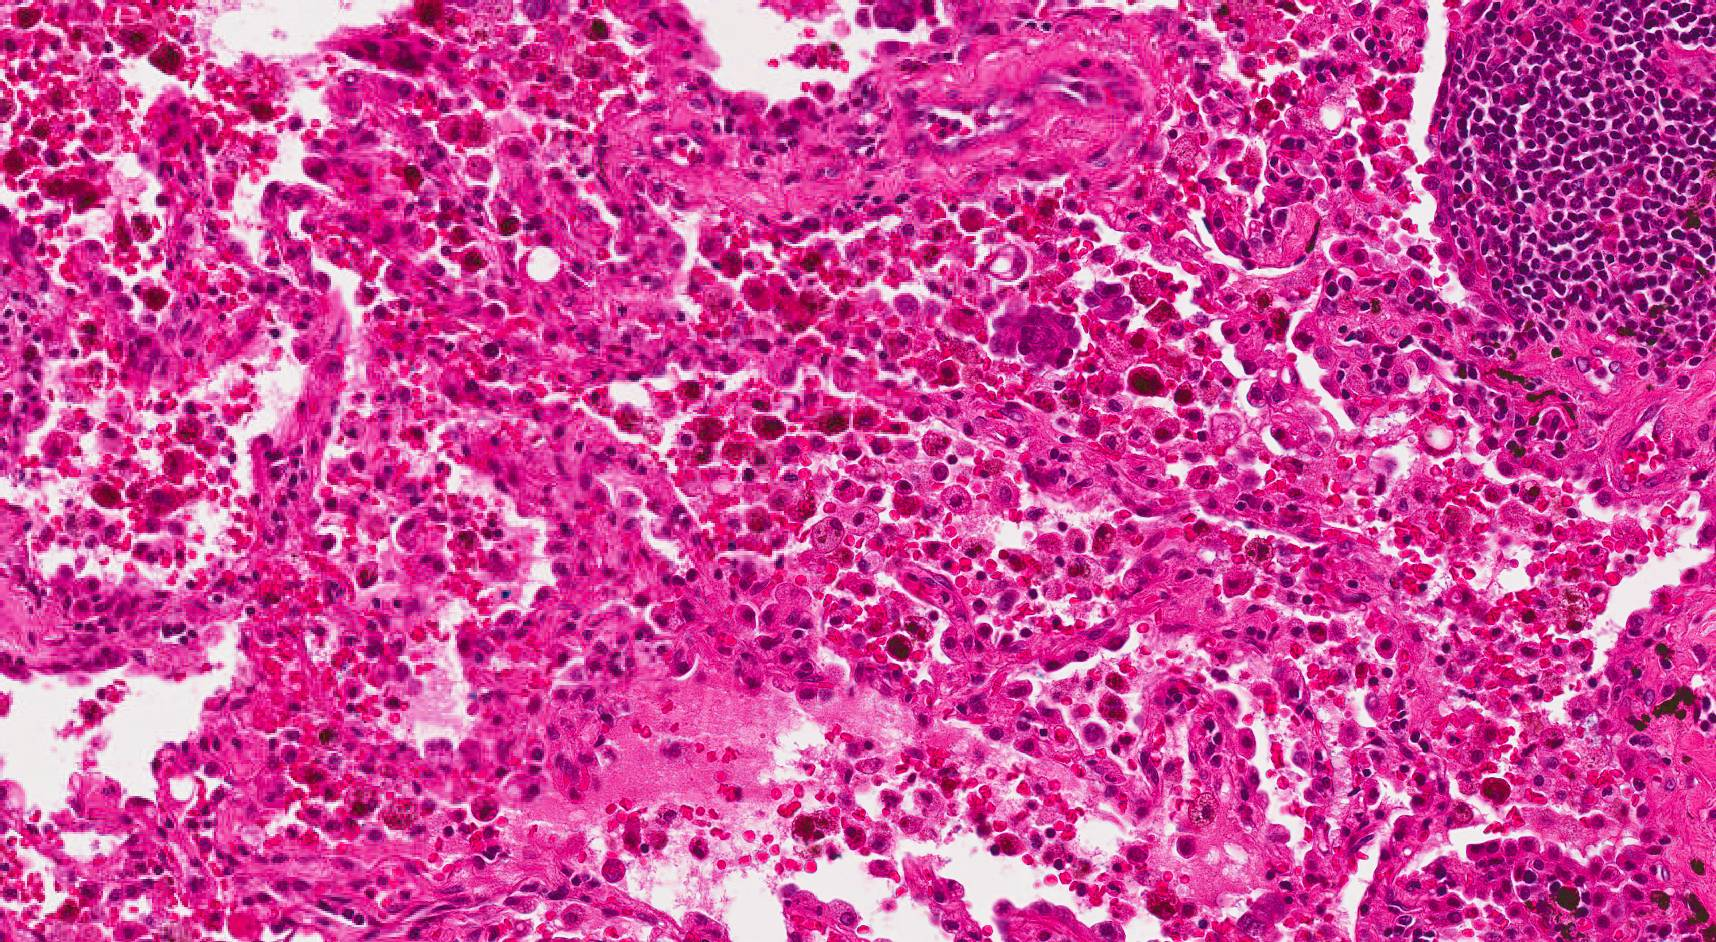stas: (990, 301, 1085, 369), (1085, 282, 1133, 321), (980, 246, 1027, 282)
